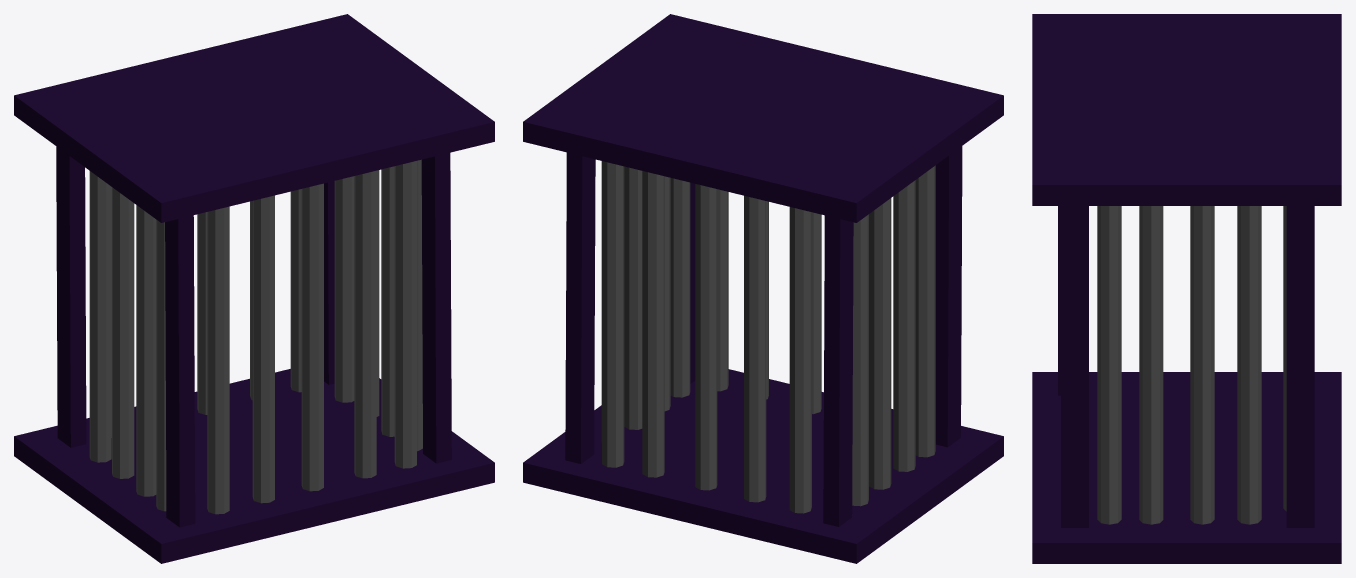
File: Cage.fbx
3 views of the same model, side by side, from view 1: azimuth 30°, elevation 25°; view 2: azimuth 150°, elevation 25°; view 3: azimuth 270°, elevation 25° (orthographic). The views are drawn at different scales.
Visible parts, largest first — view 1: Cage; view 2: Cage; view 3: Cage.
Boxes of the visible parts, bbox=[...] form: Cage: bbox=[14, 14, 494, 563]; Cage: bbox=[523, 14, 1003, 563]; Cage: bbox=[1032, 14, 1341, 563].
Bounding box in the file's own units: 6.77 × 5.18 × 7.
